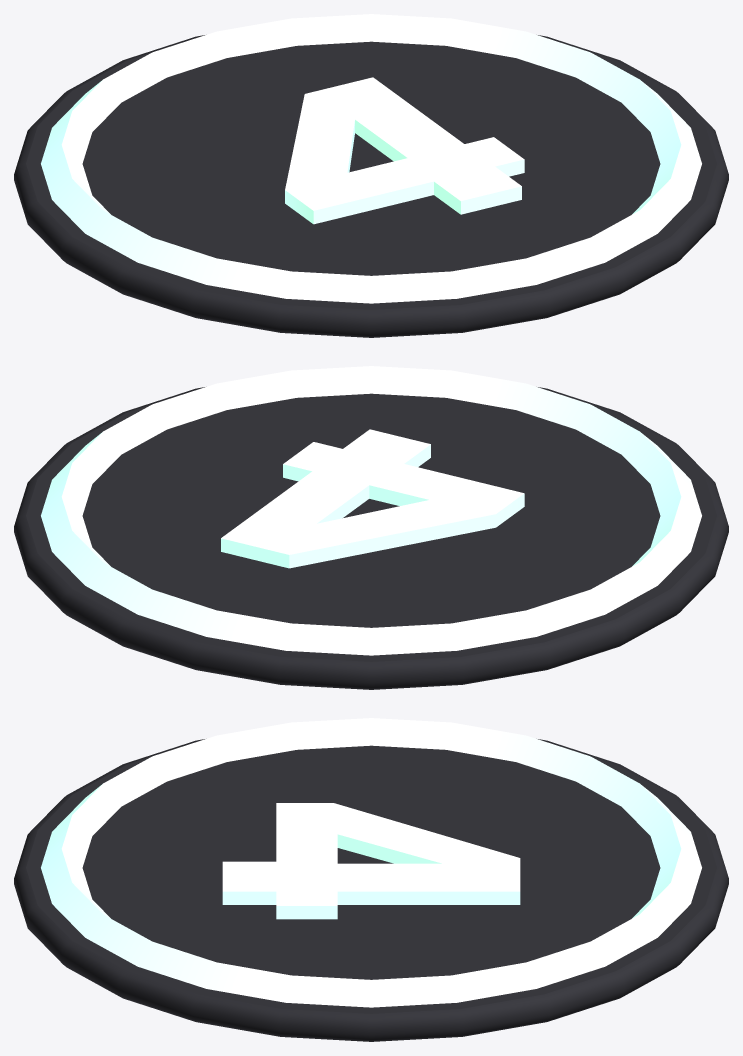
File: kr_joinpad_4_on.glb
3 renders of one model, top to bottom at view 1: azimuth 30°, elevation 25°; view 2: azimuth 150°, elevation 25°; view 3: azimuth 270°, elevation 25°, orthographic.
Parts seen in each view (by area): view 1: vc_m0_r4, kr_joinpad_4_on_neongreen; view 2: vc_m0_r4, kr_joinpad_4_on_neongreen; view 3: vc_m0_r4, kr_joinpad_4_on_neongreen.
Boxes of the visible parts, x1,y1,x2,y2 form: vc_m0_r4: (14,35,728,337); kr_joinpad_4_on_neongreen: (41,14,701,303); vc_m0_r4: (14,387,728,689); kr_joinpad_4_on_neongreen: (41,366,701,655); vc_m0_r4: (14,739,728,1041); kr_joinpad_4_on_neongreen: (41,718,701,1007).
Bounding box in the file's own units: 1.2 × 0.085 × 1.2.
